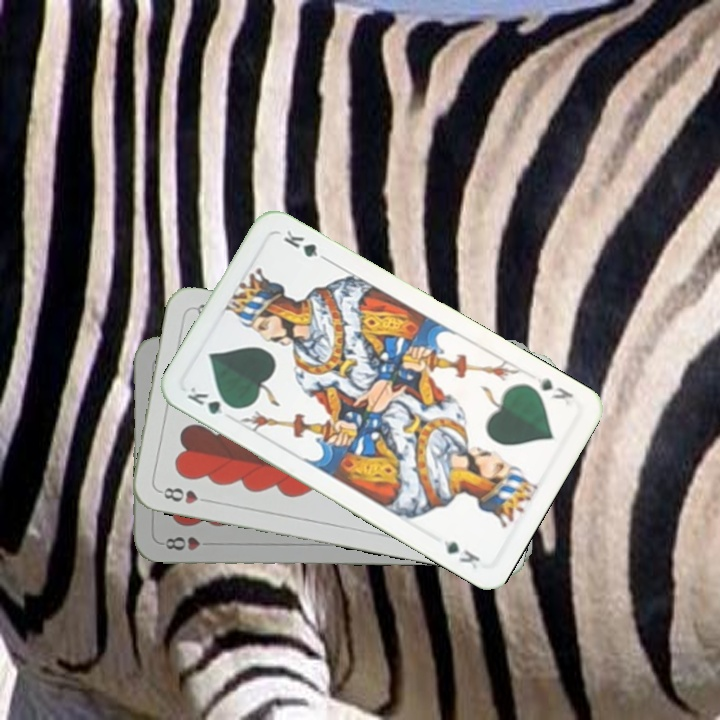GK: (183, 382, 239, 417), (530, 373, 576, 409)
H8: (155, 483, 214, 507), (161, 533, 216, 553)
